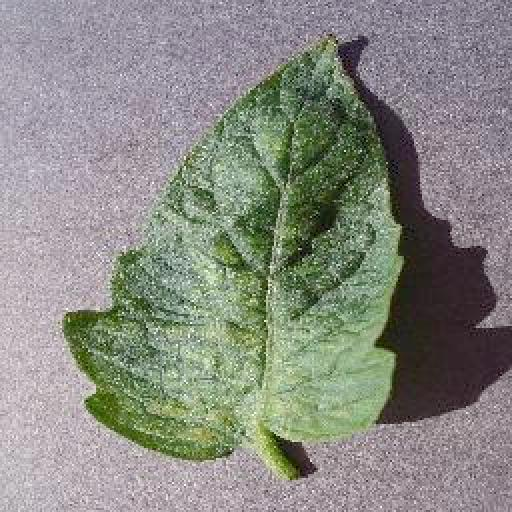disease_tomato: (60, 32, 402, 460)
